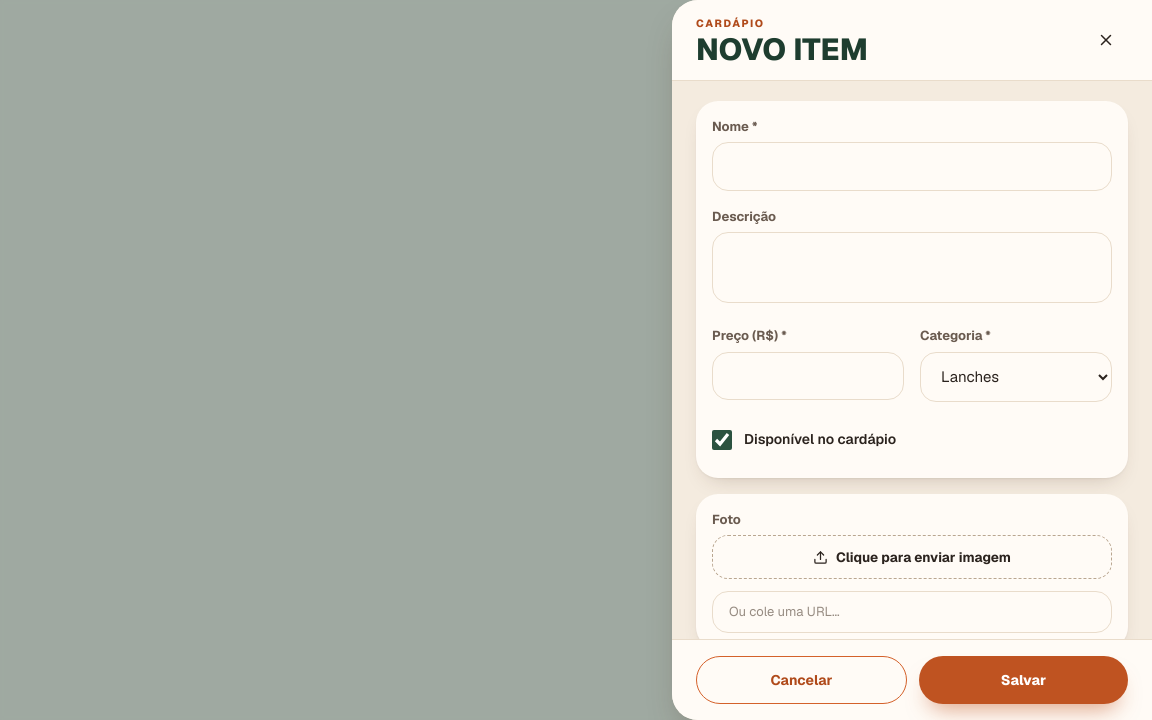
validação › recusa preço zero
Type "X-Salada" into the field named "name" at (912, 166), box [712, 142, 1112, 191]
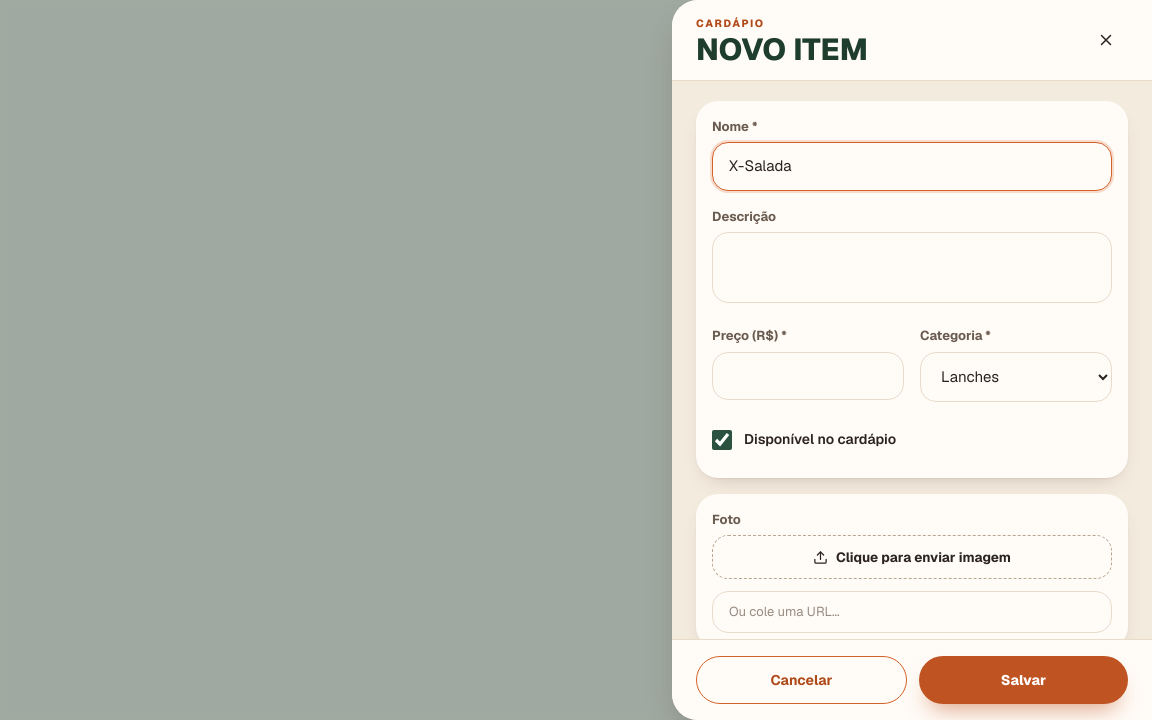
Type "0" into the number field named "price" at (808, 376), box [712, 352, 904, 400]
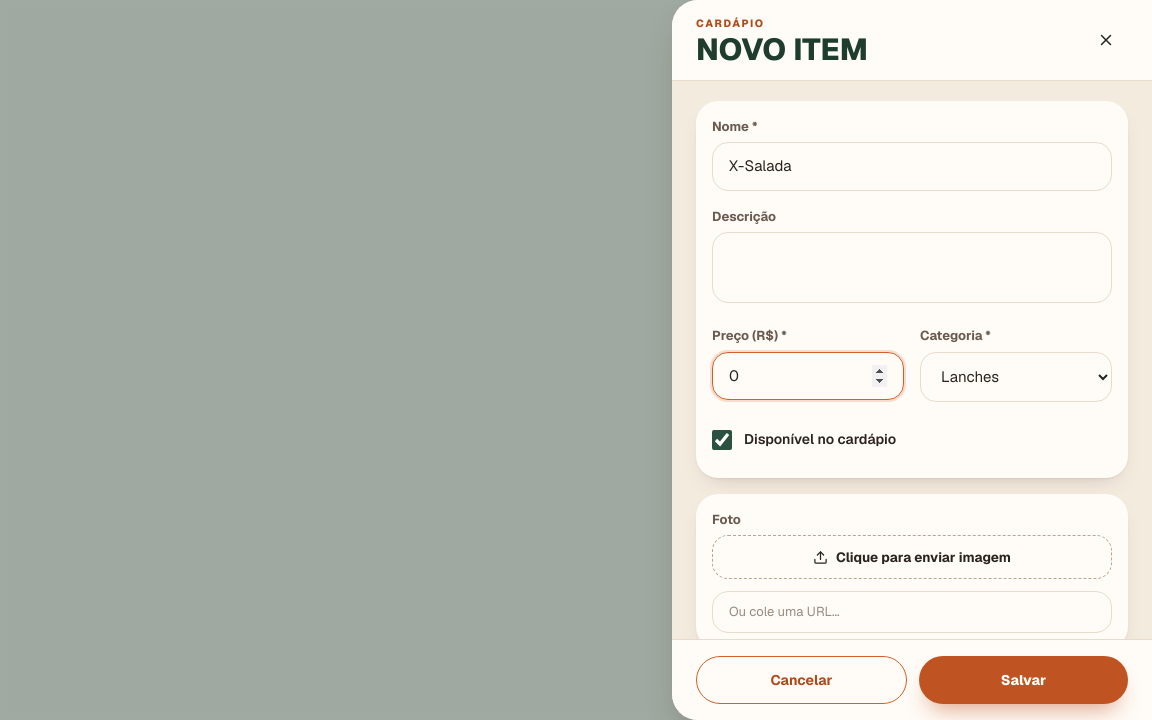
Click the button "Salvar" at (1024, 680), box [919, 656, 1128, 704]
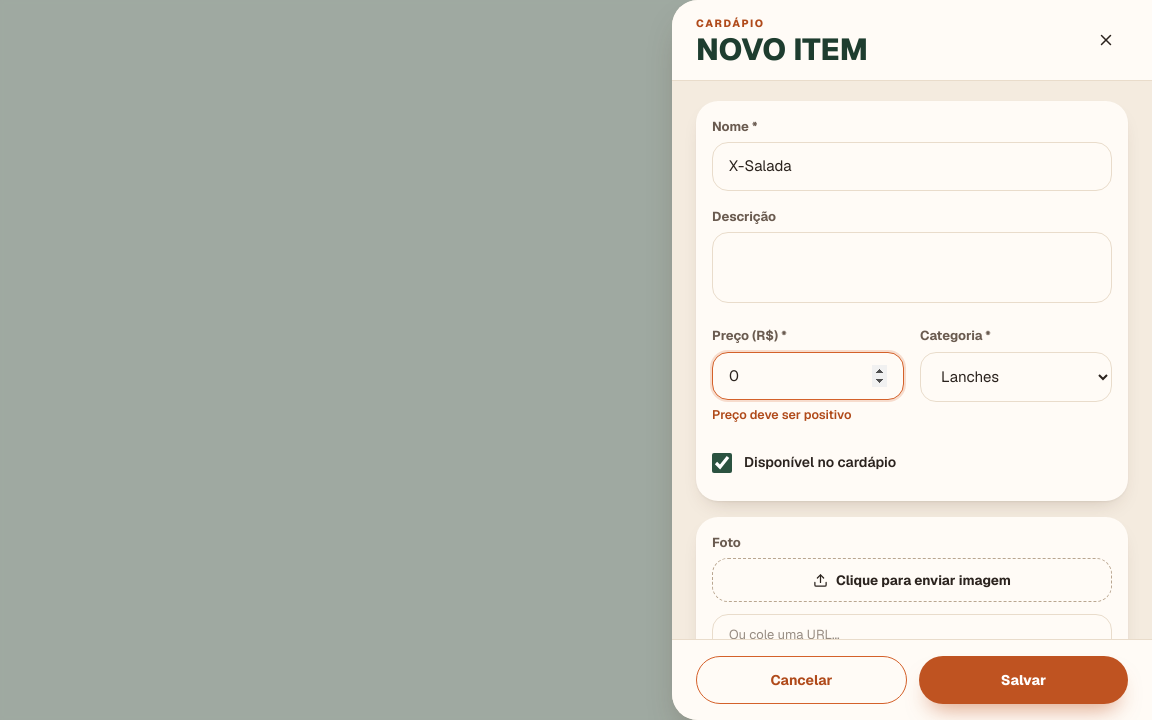
Now the text "Preço deve ser positivo" is shown, box [712, 406, 852, 423]
